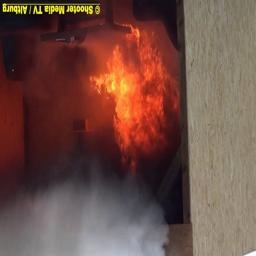fire: (64, 19, 187, 165)
smoke: (0, 171, 176, 256)
